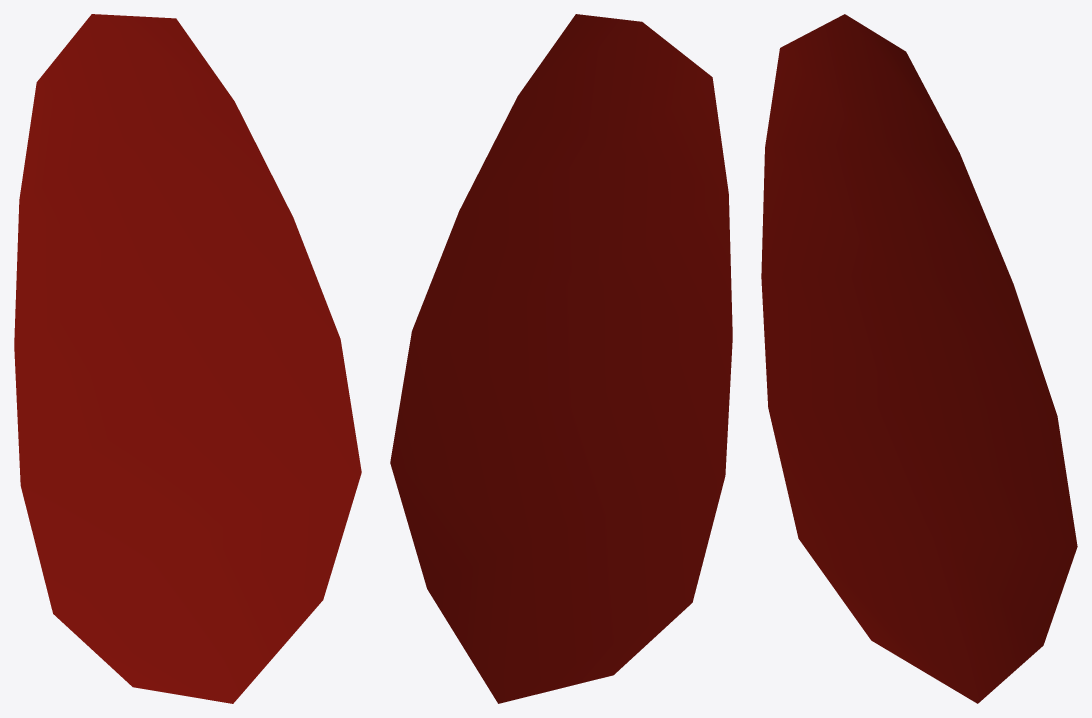
The model's file is ara_feather_flight_tertiary_048.obj.
3 renders of one model, left to right at view 1: azimuth 30°, elevation 25°; view 2: azimuth 150°, elevation 25°; view 3: azimuth 330°, elevation 25°, orthographic. The views are drawn at different scales.
Parts seen in each view (by area): view 1: feather_flight_tertiary_048; view 2: feather_flight_tertiary_048; view 3: feather_flight_tertiary_048.
Boxes of the visible parts, bbox=[...] form: feather_flight_tertiary_048: bbox=[14, 14, 361, 703]; feather_flight_tertiary_048: bbox=[390, 14, 732, 703]; feather_flight_tertiary_048: bbox=[761, 14, 1077, 703].
Bounding box in the file's own units: 0.0173 × 0.0345 × 0.000947.
